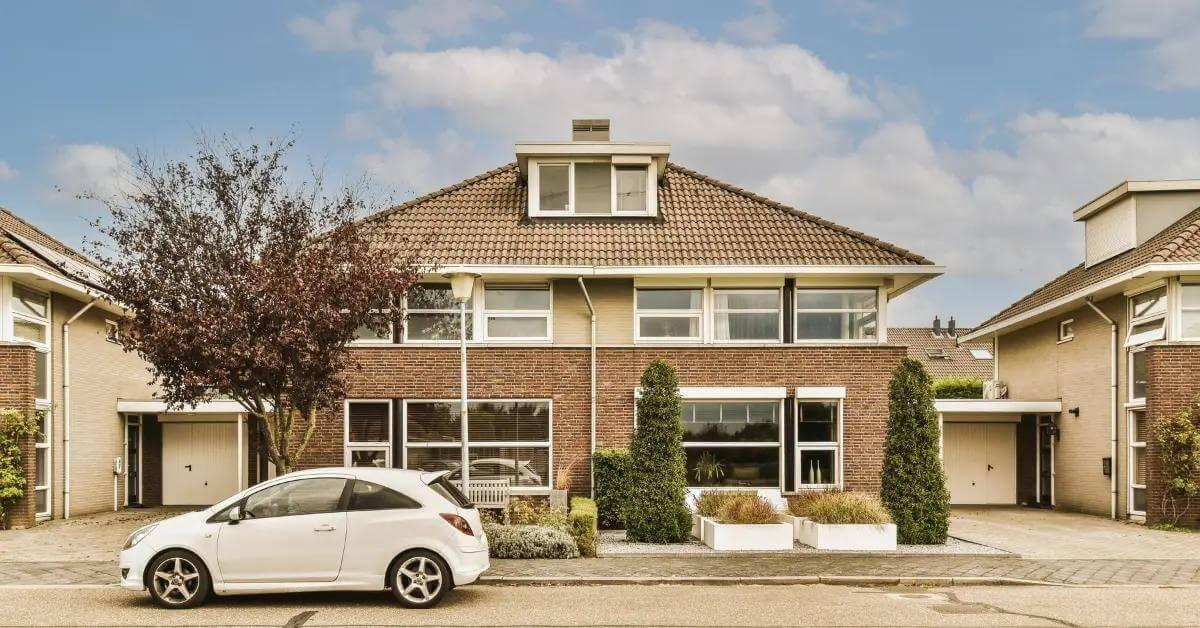VEHICLE TYPE 1: (118, 465, 495, 611)
wheel: (145, 546, 213, 612), (389, 547, 451, 611)
